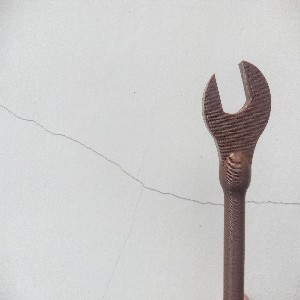spanner: (201, 60, 271, 300)
